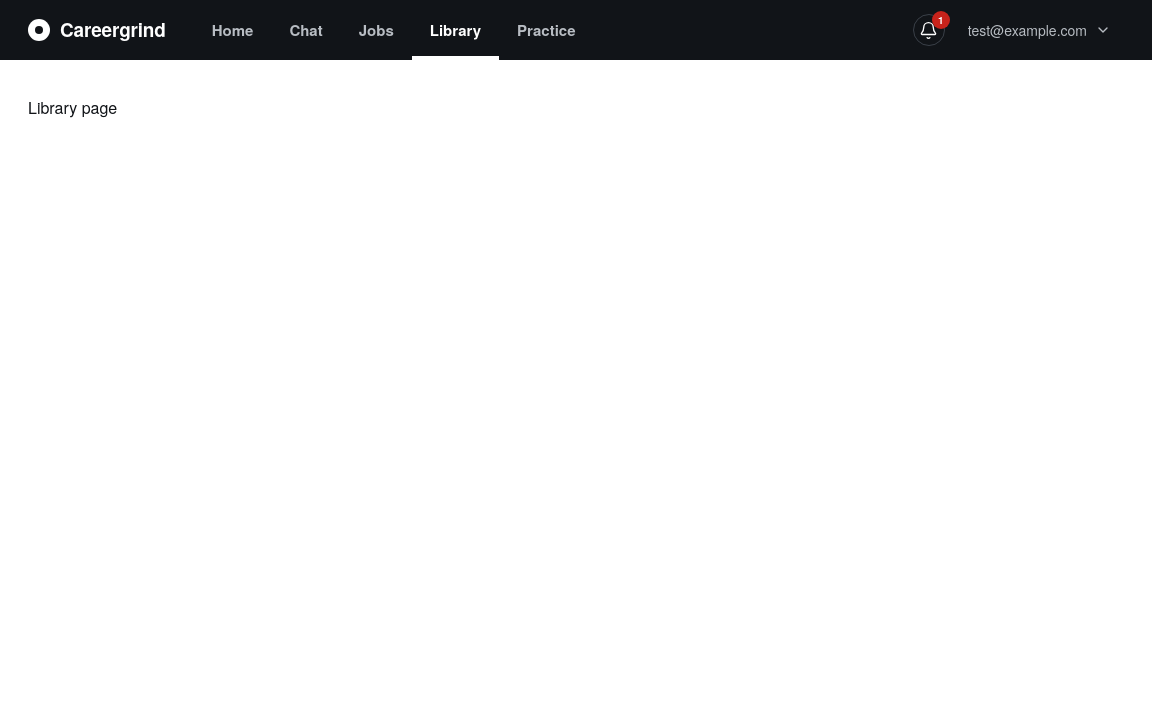
Scenario: announces a failure after navigation and supports keyboard dismissal in the inbox
Click the button named "Notifications, 1 unread" at (929, 30), box [907,8,951,52]
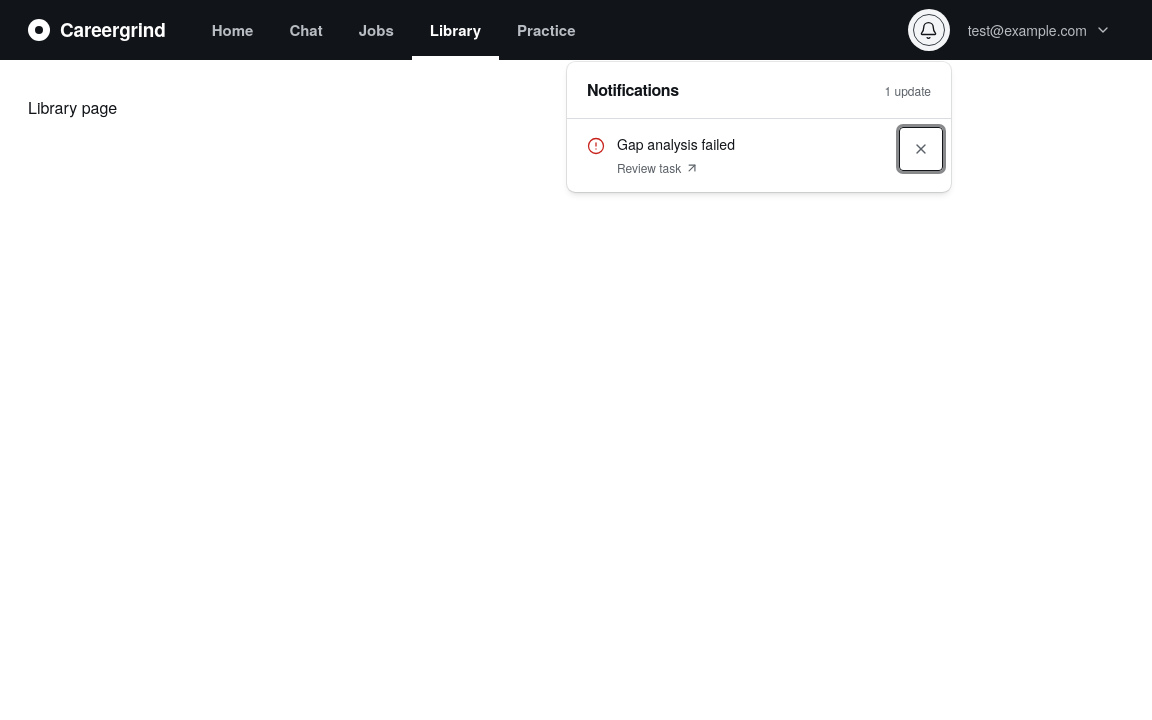
Press Enter
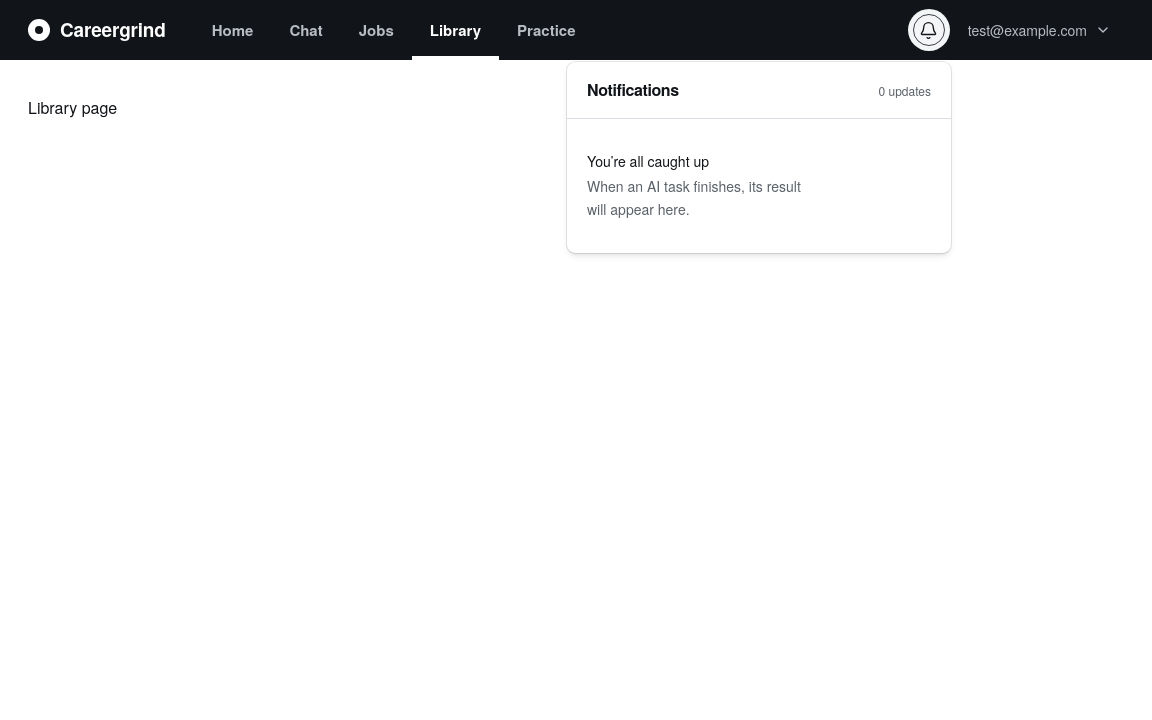
Now the link "Gap analysis failed" is gone
Now the text "You’re all caught up" is shown, box [587,151,709,171]
